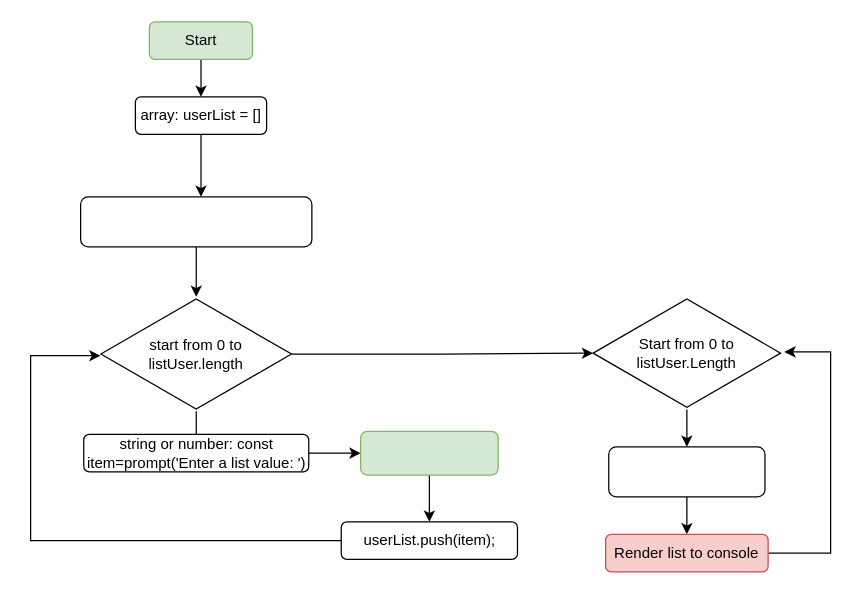
Image size: 863x594. Some labels were removed from this diagram. Here are the shapes that lost their labels. From the top down, the box of each, then its label:
(79, 196, 312, 247): num: const userList =prompt('How long is list ')
(359, 430, 498, 475): const con=confirm()
(608, 446, 765, 497): const item=userList[i];
